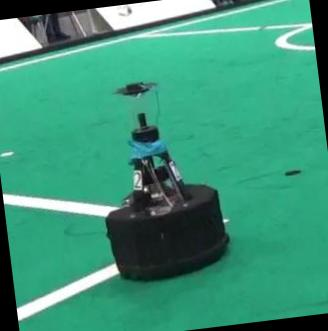robot: (106, 82, 228, 279)
